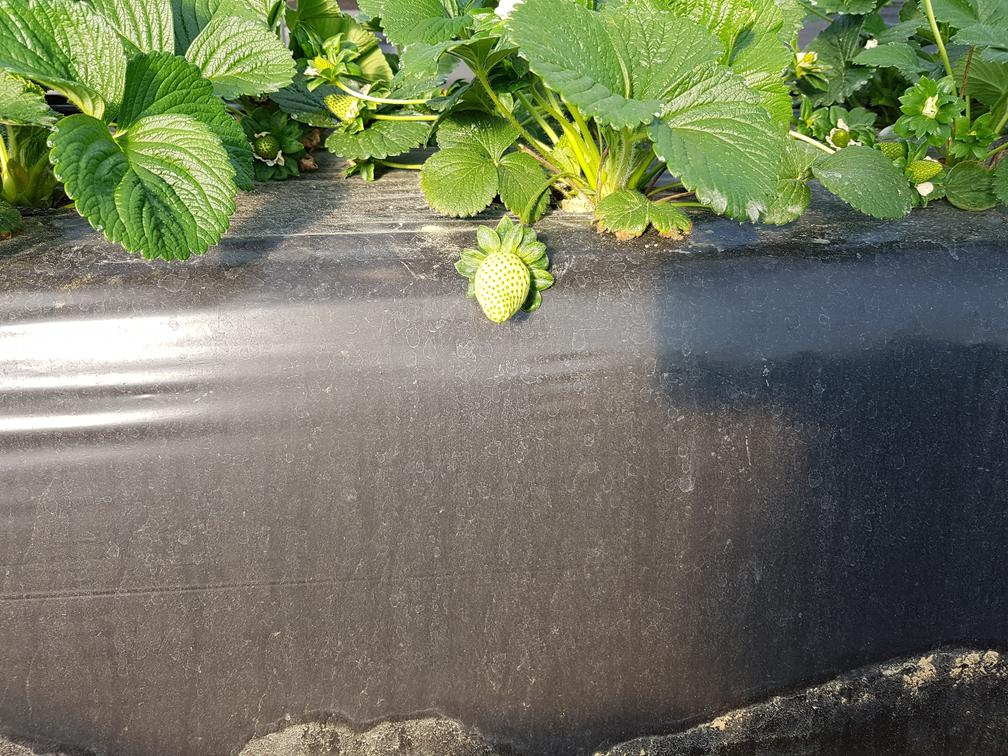Unripe: (471, 249, 537, 328)
